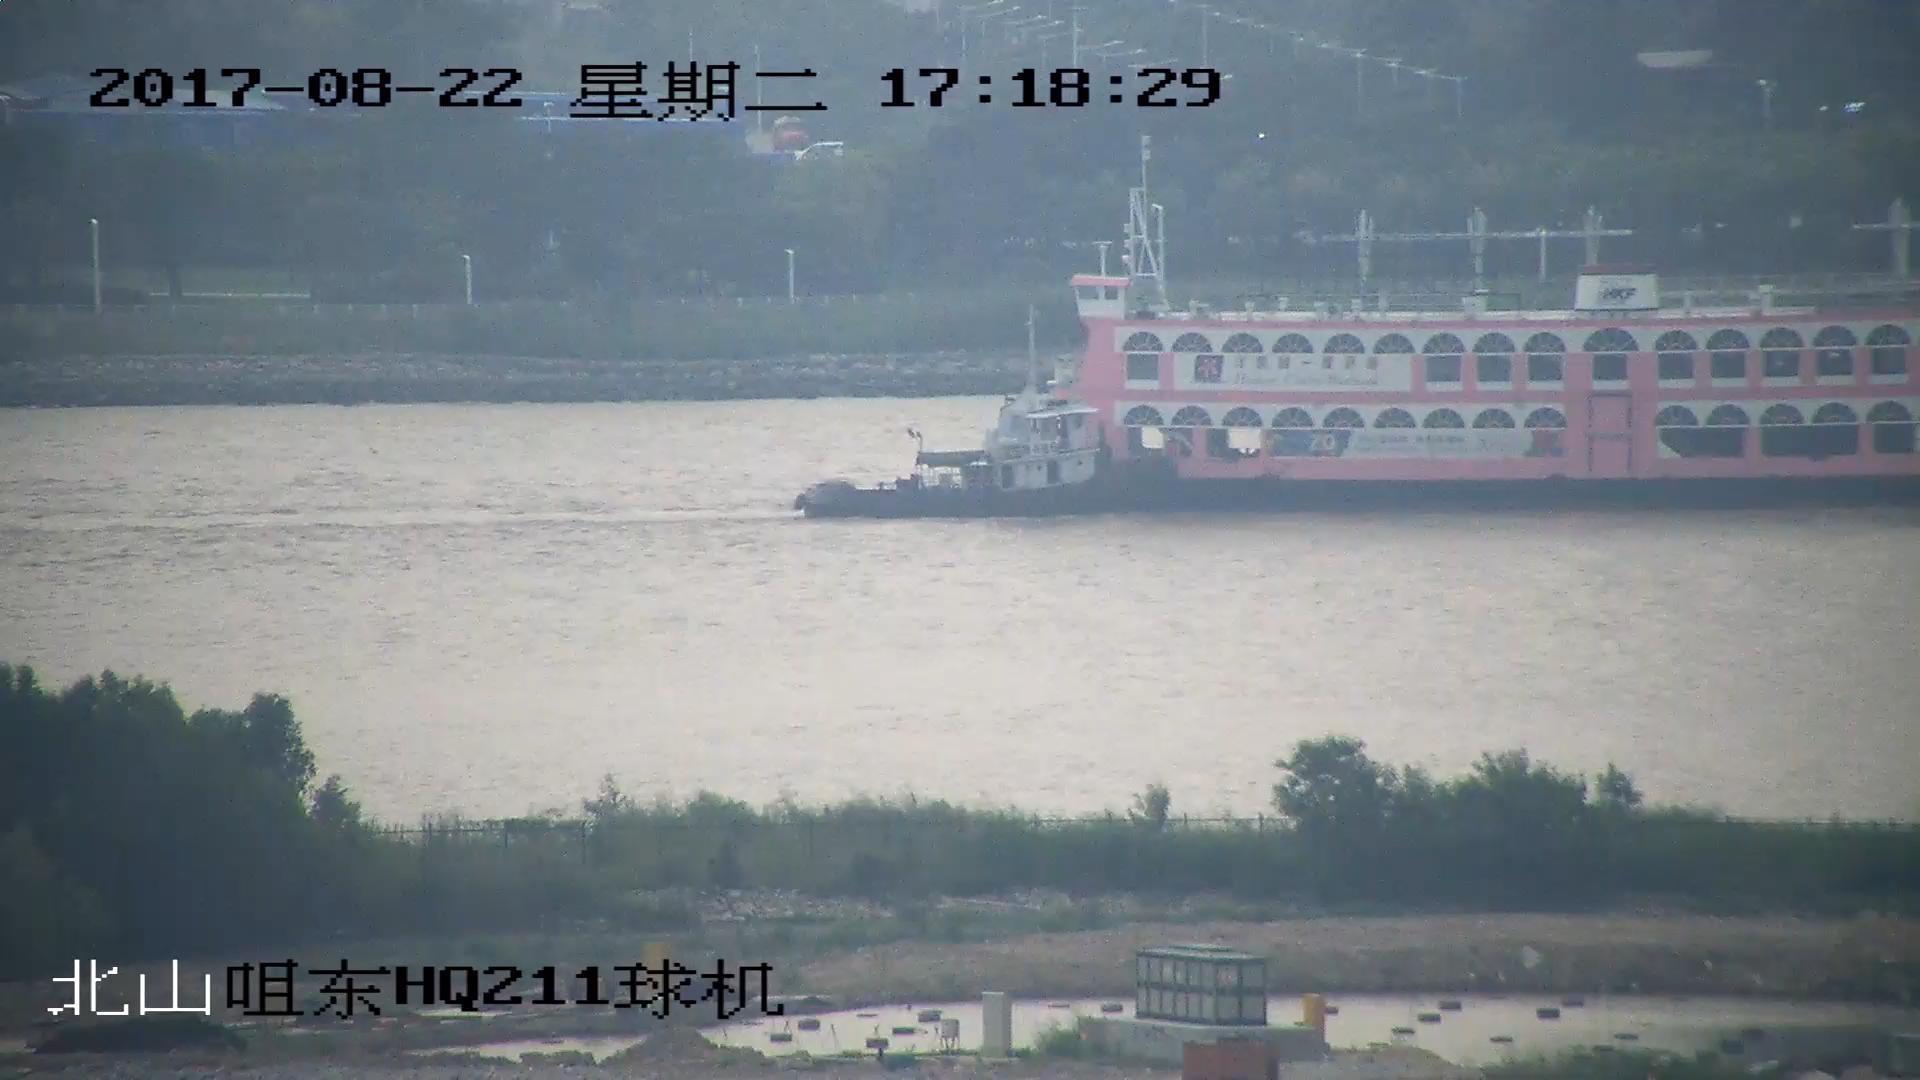passenger ship: (796, 184, 1920, 515)
